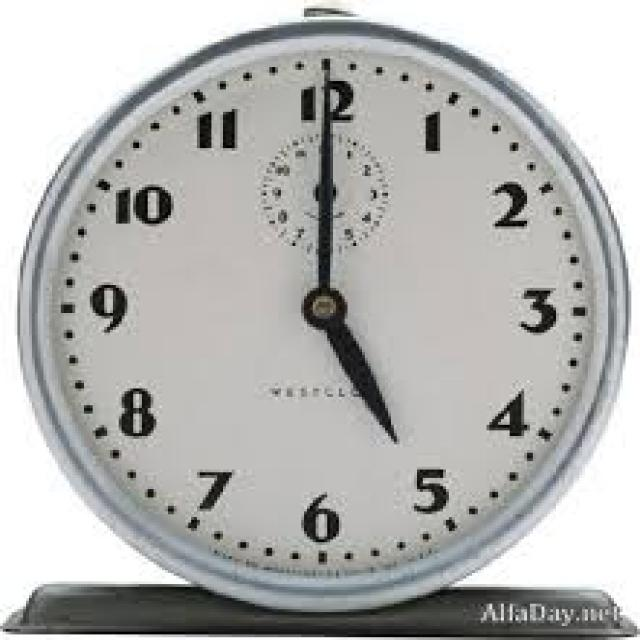Clocks-images: (21, 25, 618, 617)
